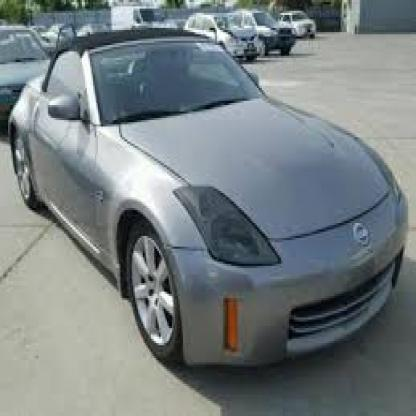car: (7, 21, 412, 394)
